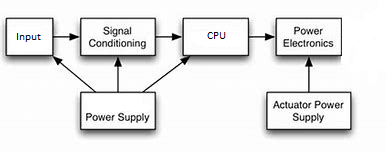arrow: (140, 55, 194, 93), (50, 54, 96, 92), (112, 57, 124, 94), (303, 56, 315, 92), (155, 31, 184, 42), (247, 31, 277, 41), (52, 31, 81, 41)
process: (264, 90, 354, 131), (78, 90, 159, 132), (78, 16, 159, 57), (273, 16, 344, 58), (181, 16, 250, 58), (4, 16, 56, 58)
text: (270, 100, 346, 124), (88, 25, 149, 51), (280, 25, 336, 48), (85, 112, 152, 124), (15, 31, 42, 43), (206, 29, 228, 41)
